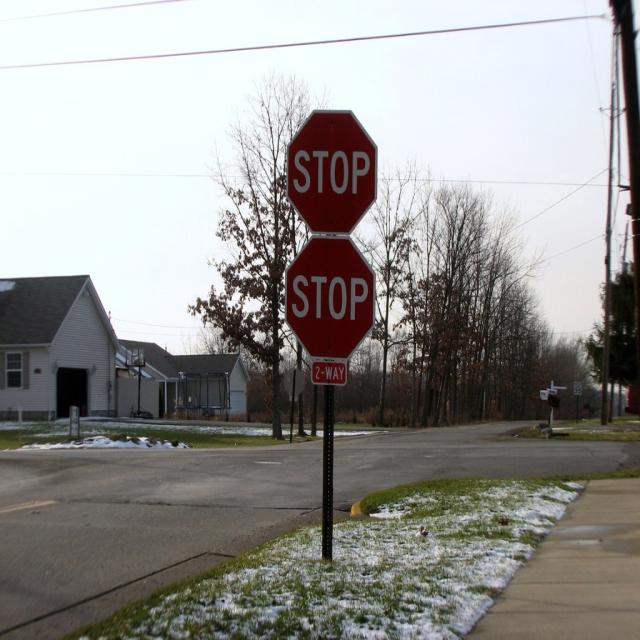Stop-sign: (286, 107, 378, 236), (284, 235, 374, 364)
